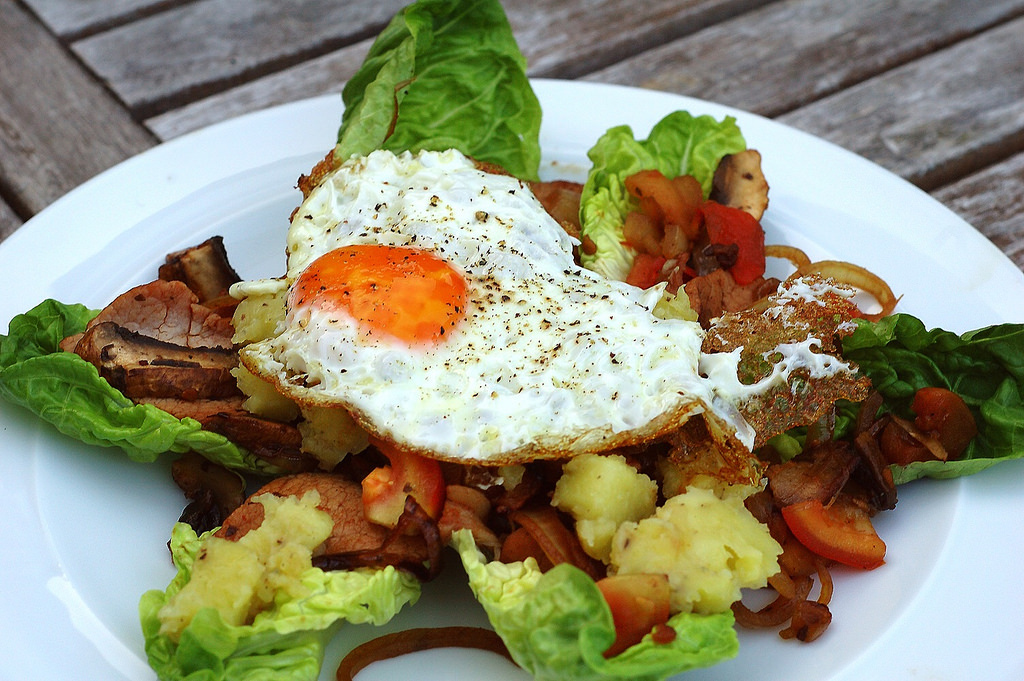chopped lettuce: (140, 564, 362, 681)
fried egg: (271, 140, 749, 454)
